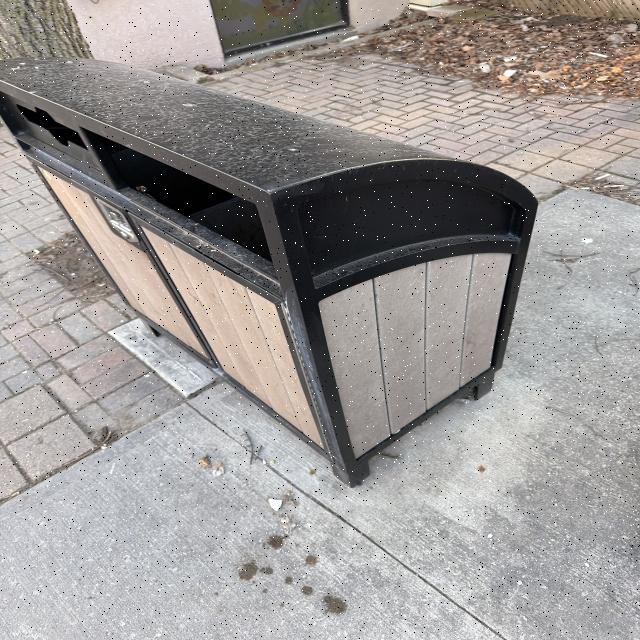Dustbin: (0, 59, 544, 488)
